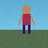person: (18, 5, 34, 33)
